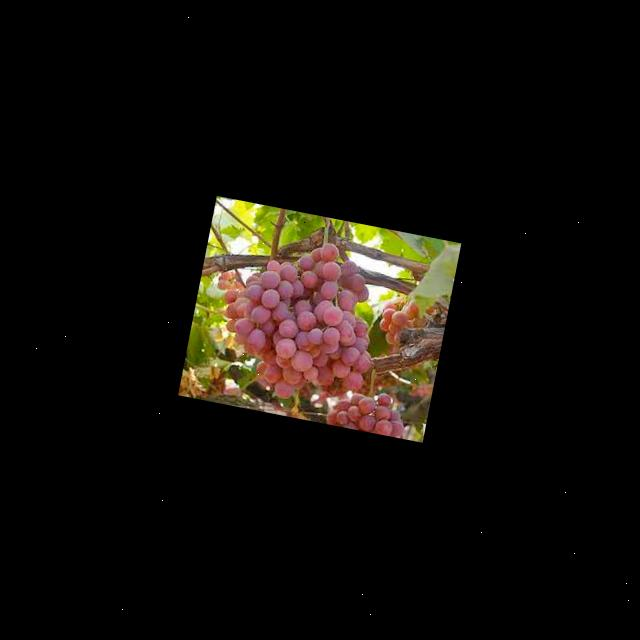grape: (198, 223, 394, 414), (325, 383, 411, 439)
